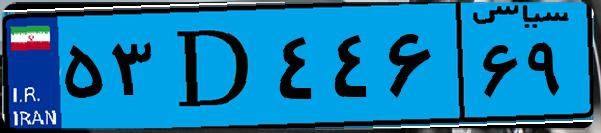3: (110, 28, 158, 98)
4: (270, 28, 330, 110), (330, 28, 385, 110)
5: (57, 26, 110, 100)
6: (385, 28, 445, 110), (475, 38, 525, 113)
9: (525, 38, 570, 115)
D: (158, 12, 270, 120)
